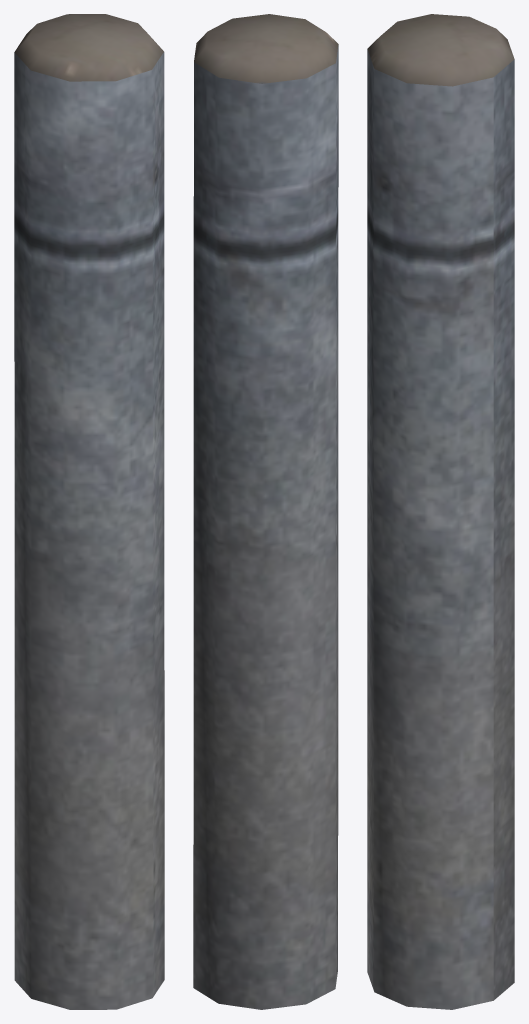
The model's file is SM_cautionpole.fbx.
3 renders of one model, left to right at view 1: azimuth 30°, elevation 25°; view 2: azimuth 150°, elevation 25°; view 3: azimuth 270°, elevation 25°, orthographic.
Visible parts, largest first — view 1: SM_cautionpole; view 2: SM_cautionpole; view 3: SM_cautionpole.
Part boxes in pixels (box(x1,y1,x2,y2)): SM_cautionpole: box(14, 14, 164, 1009); SM_cautionpole: box(193, 14, 338, 1009); SM_cautionpole: box(367, 14, 514, 1009).
Bounding box in the file's own units: 17.6 × 17.52 × 124.
Materials: 1 (1 with a texture image).
